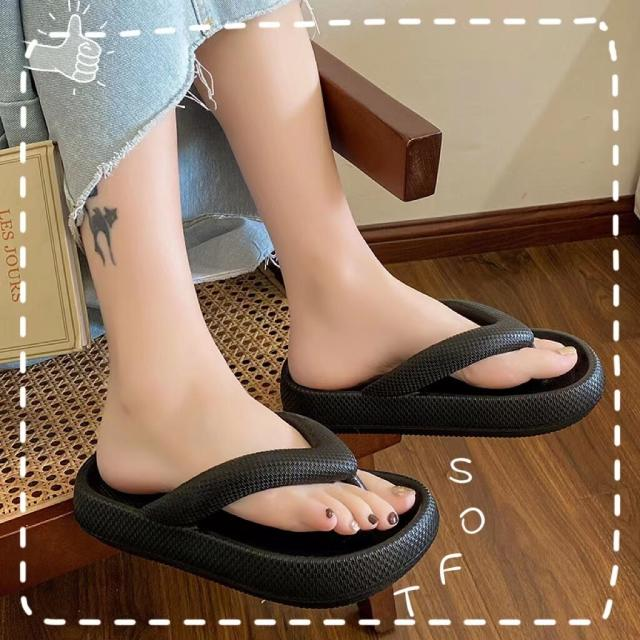Sandals: (55, 273, 608, 609)
